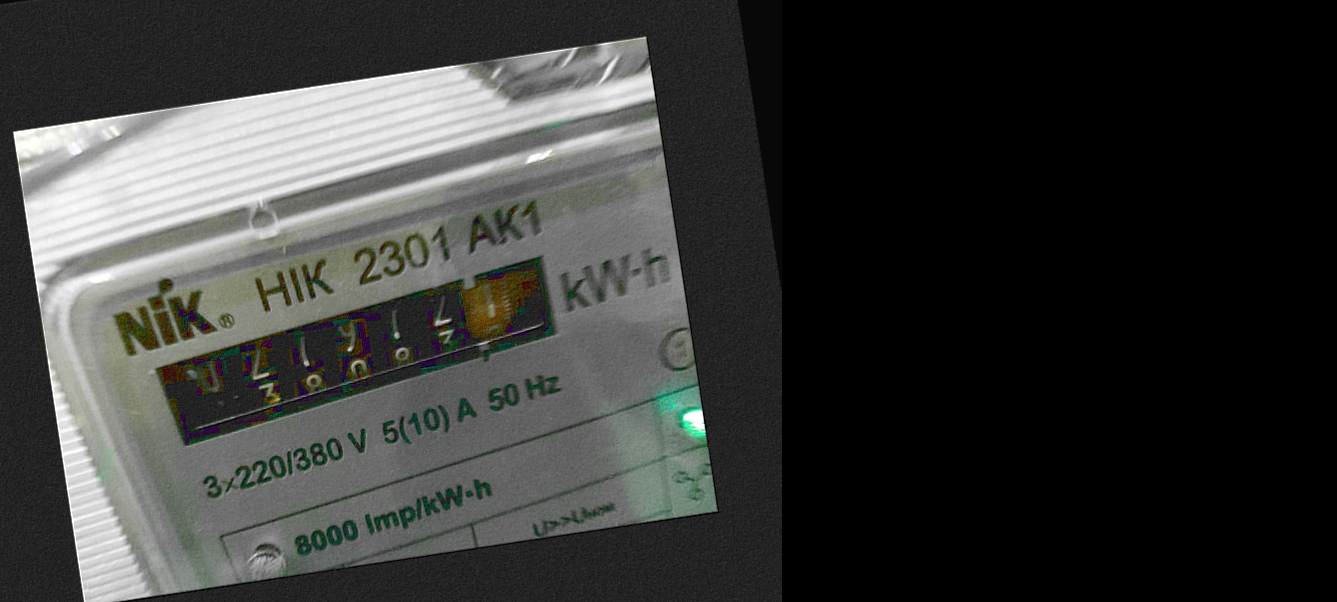0: (192, 356, 225, 396)
1: (476, 277, 504, 322)
2: (239, 340, 273, 383), (423, 288, 456, 328)
7: (377, 300, 409, 344), (288, 330, 316, 370)
9: (333, 316, 364, 354)
screen: (129, 241, 599, 460)
